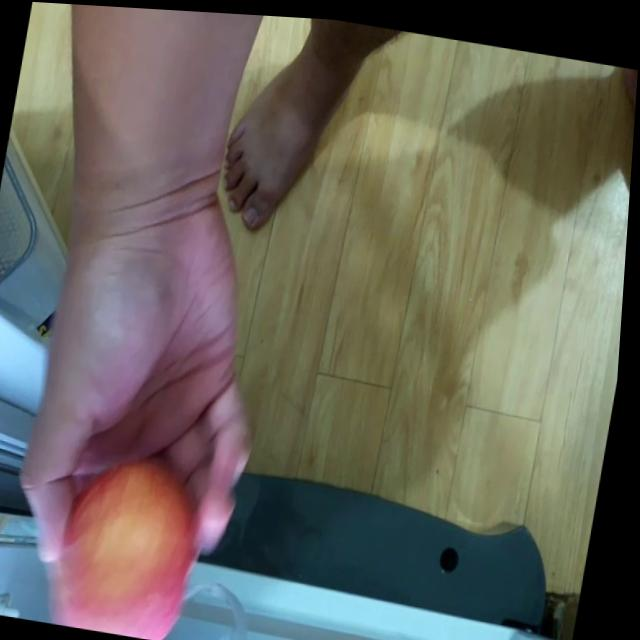apple: (49, 453, 214, 640)
